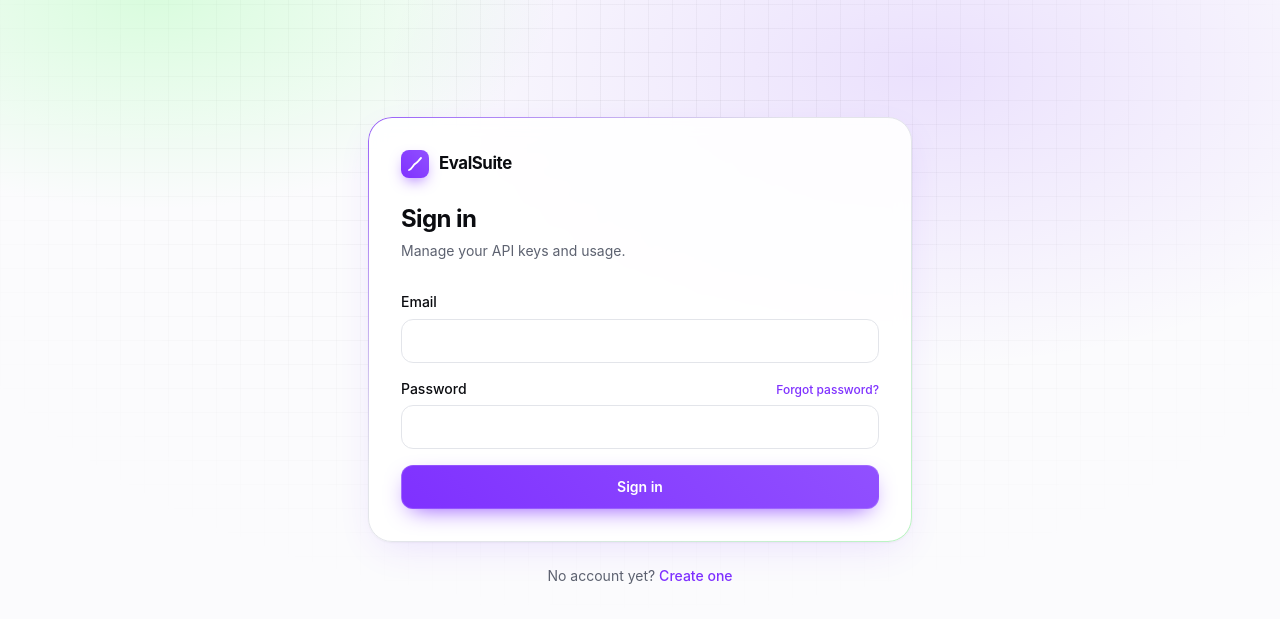
it: authentication UI › shows the API error on a wrong password
Type "ada@example.org" into the field labelled "Email" at coordinates (640, 340), box [401,318,879,362]
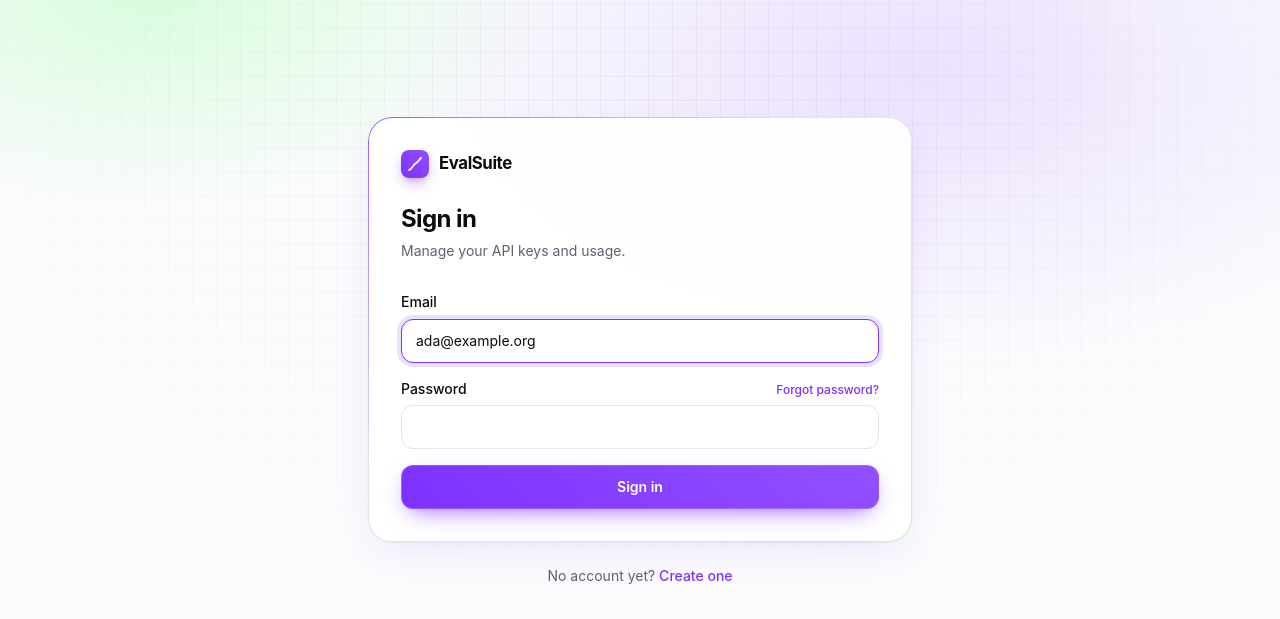
Type "wrong-password" into the password field labelled "Password" at coordinates (640, 426), box [401,404,879,448]
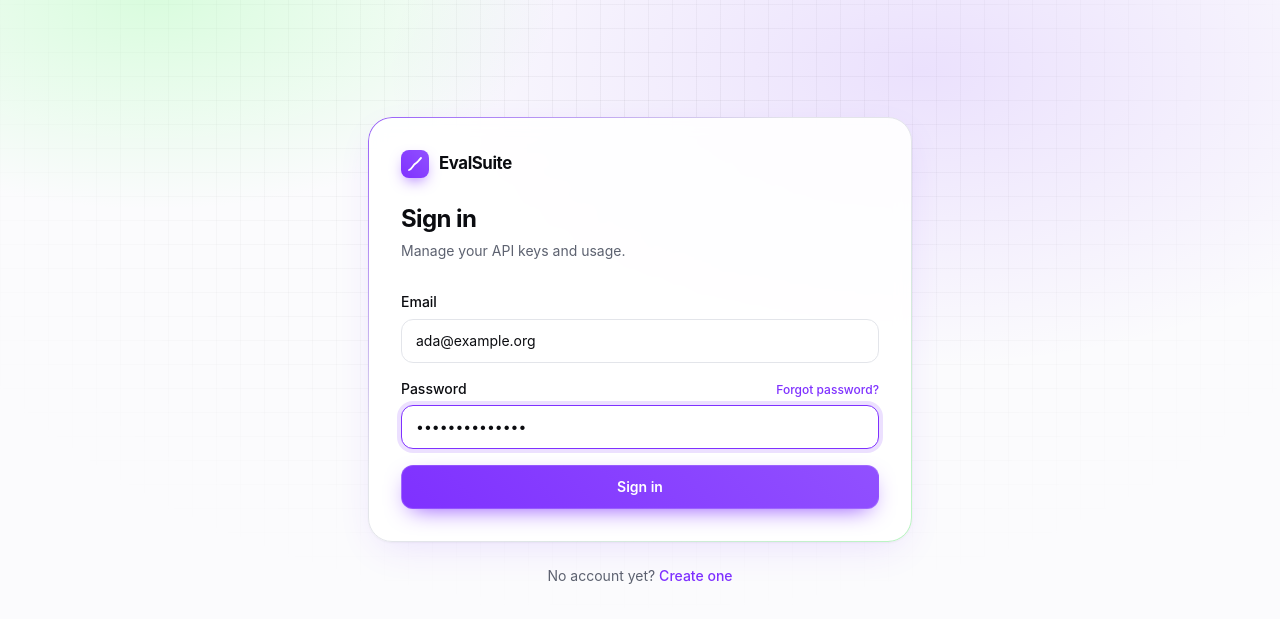
Click the button "Sign in" at coordinates (640, 486), box [401,464,879,508]
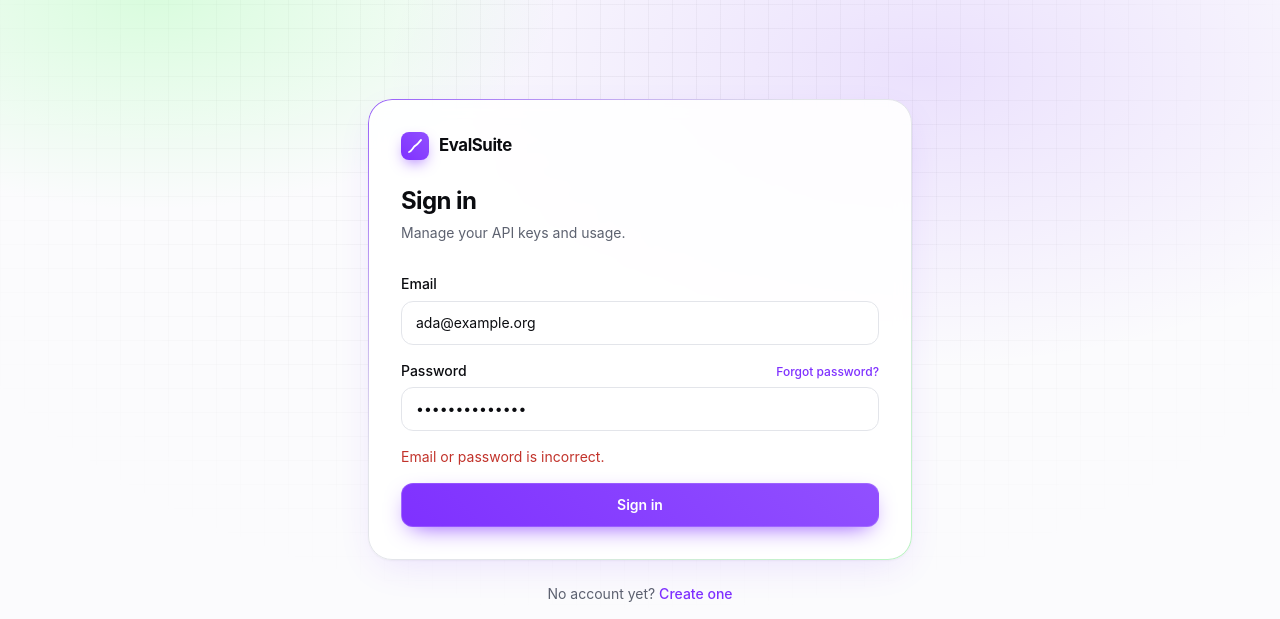
Now the message reads "Email or password is incorrect.", box [401,448,604,464]
